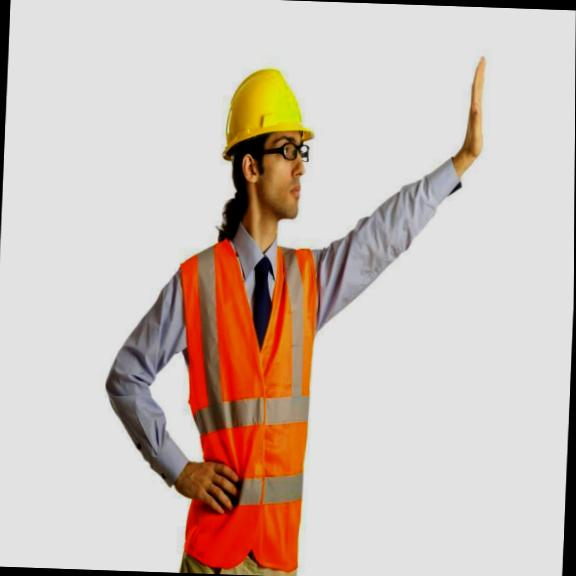safety_vest: (168, 226, 320, 549)
